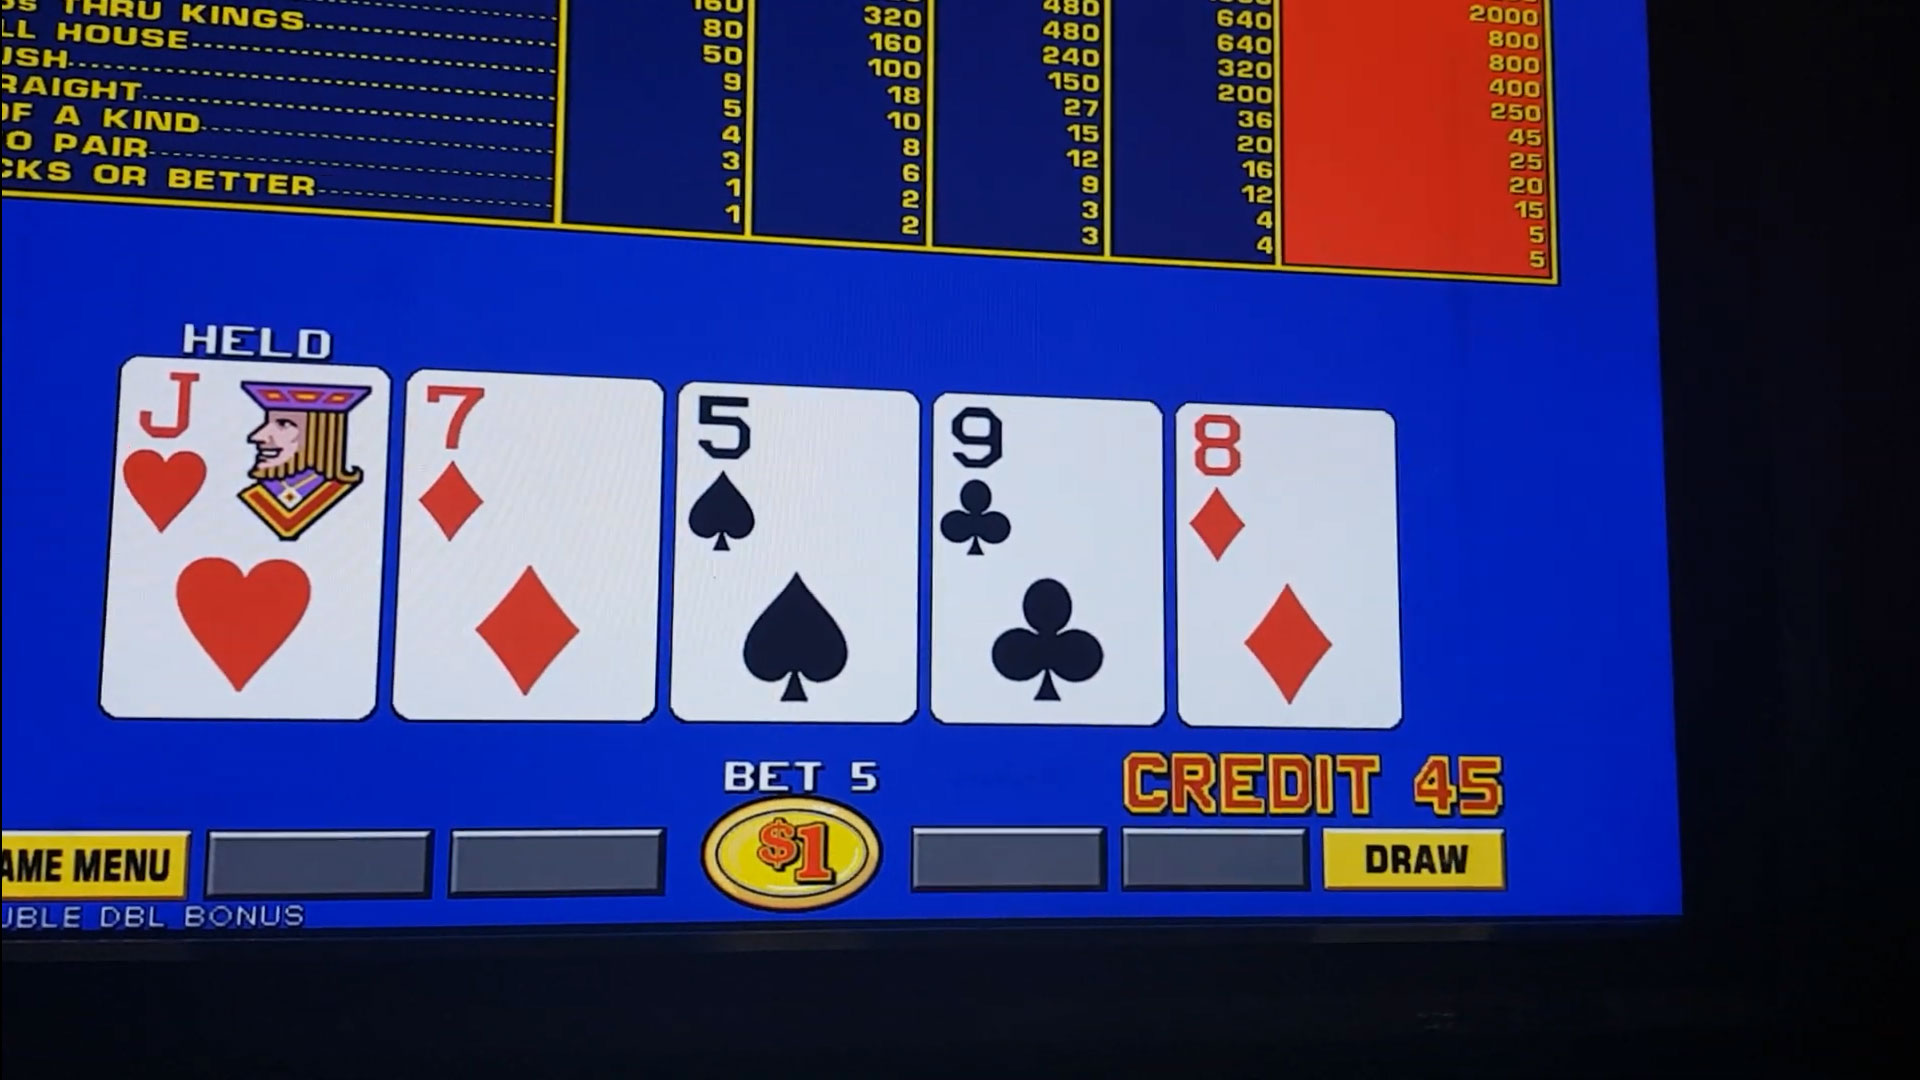C9: (940, 407, 1155, 568)
D7: (411, 377, 661, 553)
D8: (1184, 414, 1389, 578)
HJ: (123, 371, 378, 553)
S5: (683, 396, 913, 562)
